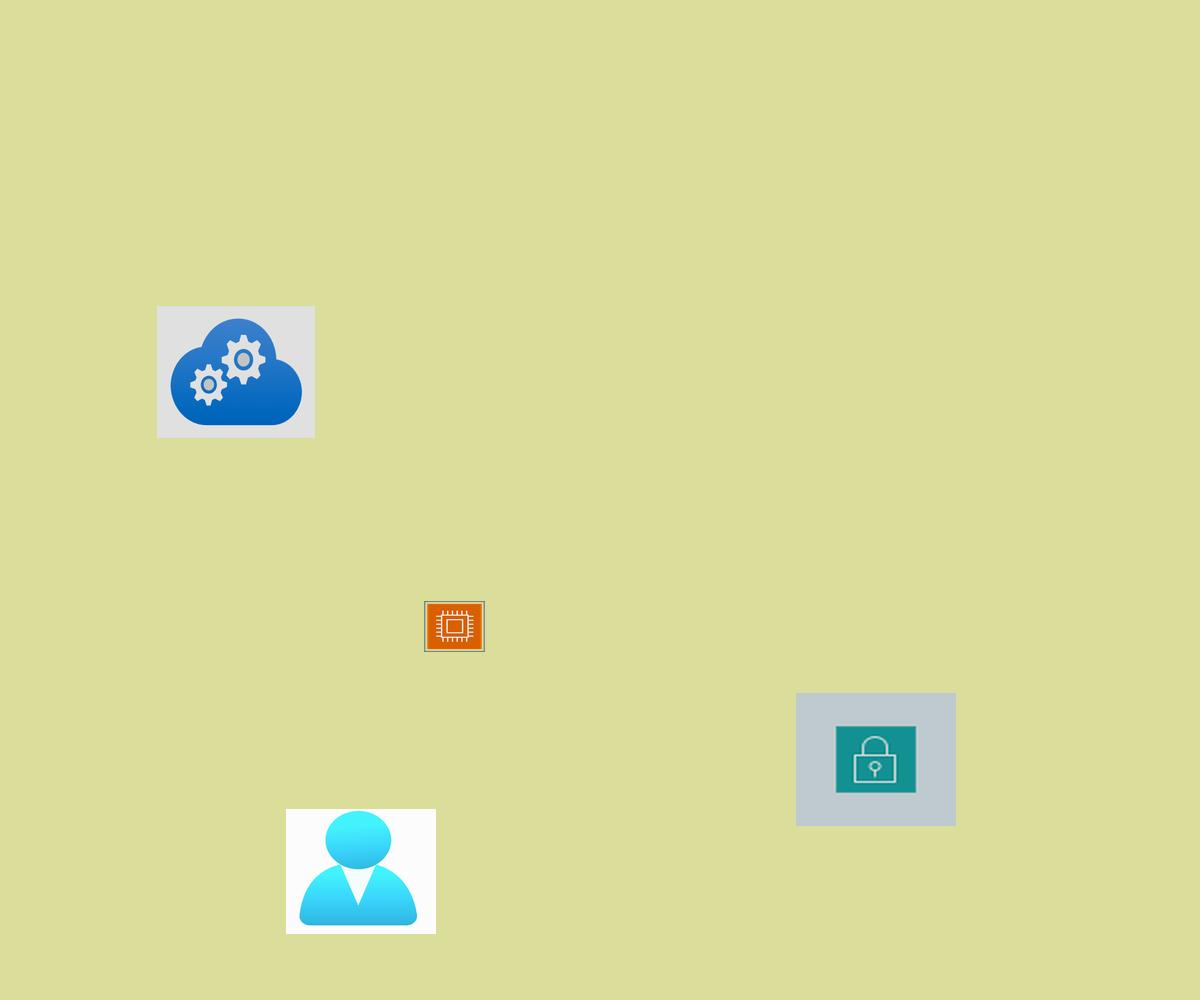AWS-Category_Compute: (424, 601, 485, 652)
AWS-Private-subnet: (796, 693, 956, 826)
Azure_cloud_services: (157, 306, 315, 438)
Azure_users: (286, 809, 436, 934)
